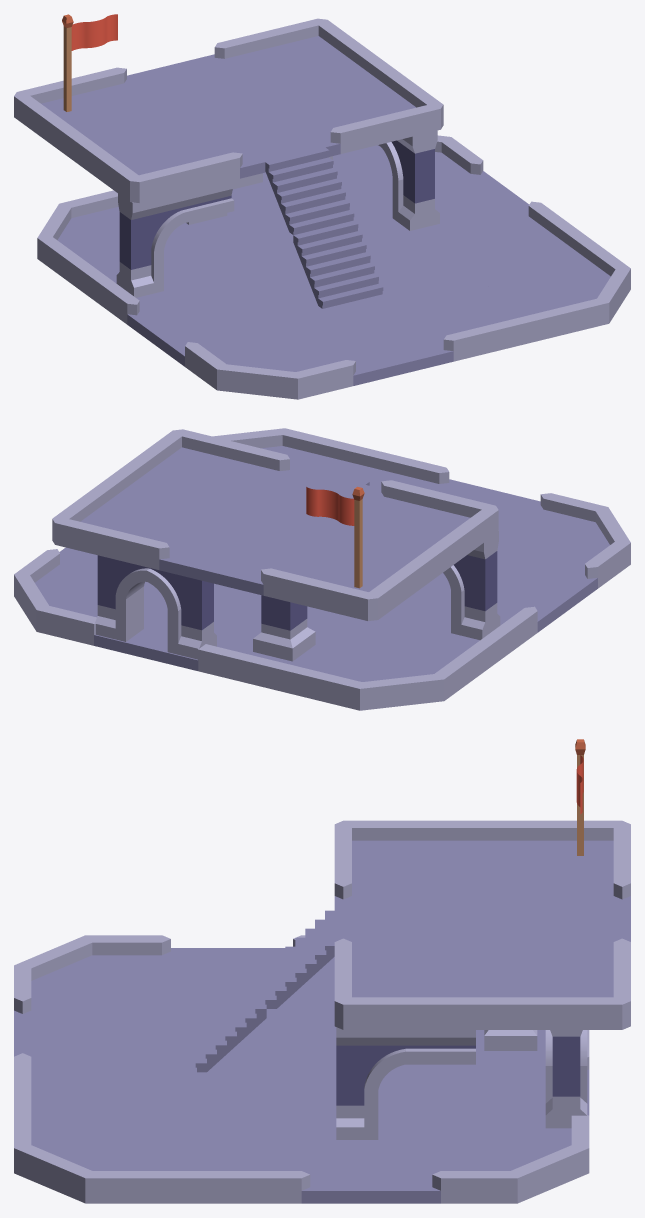
The model's file is hub3.fbx.
3 views of the same model, one above another, from view 1: azimuth 30°, elevation 25°; view 2: azimuth 150°, elevation 25°; view 3: azimuth 270°, elevation 25° (orthographic). The views are drawn at different scales.
Visible parts, largest first — view 1: mergedBlocks; view 2: mergedBlocks; view 3: mergedBlocks.
Part boxes in pixels (bbox=[...]): mergedBlocks: bbox=[14, 14, 630, 399]; mergedBlocks: bbox=[14, 428, 630, 710]; mergedBlocks: bbox=[14, 739, 630, 1203].
Size of the model in its own units: 41.25 by 20 by 44.25.
